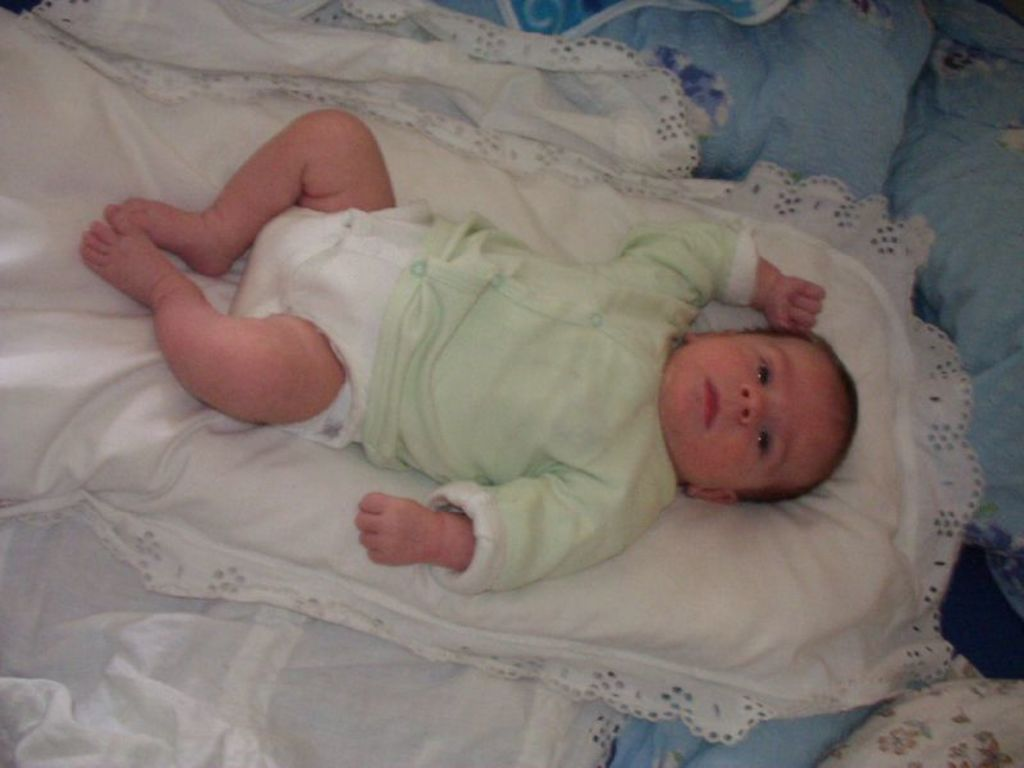Person: (80, 107, 858, 595)
